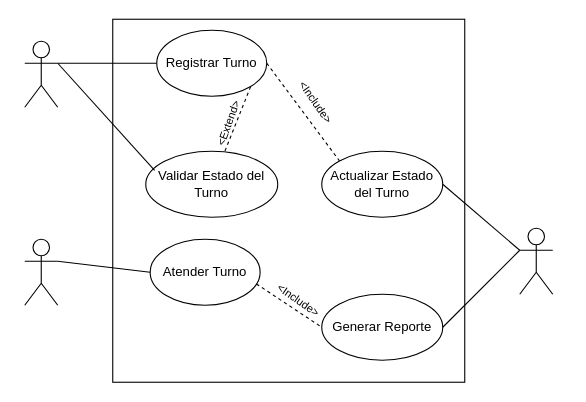
This 586x402 diagram has some shape labels left out. Each missing label, with the box of its shape:
Médico: (24, 238, 58, 305)
Supervisor: (519, 227, 553, 294)
Usuario: (24, 40, 58, 107)
